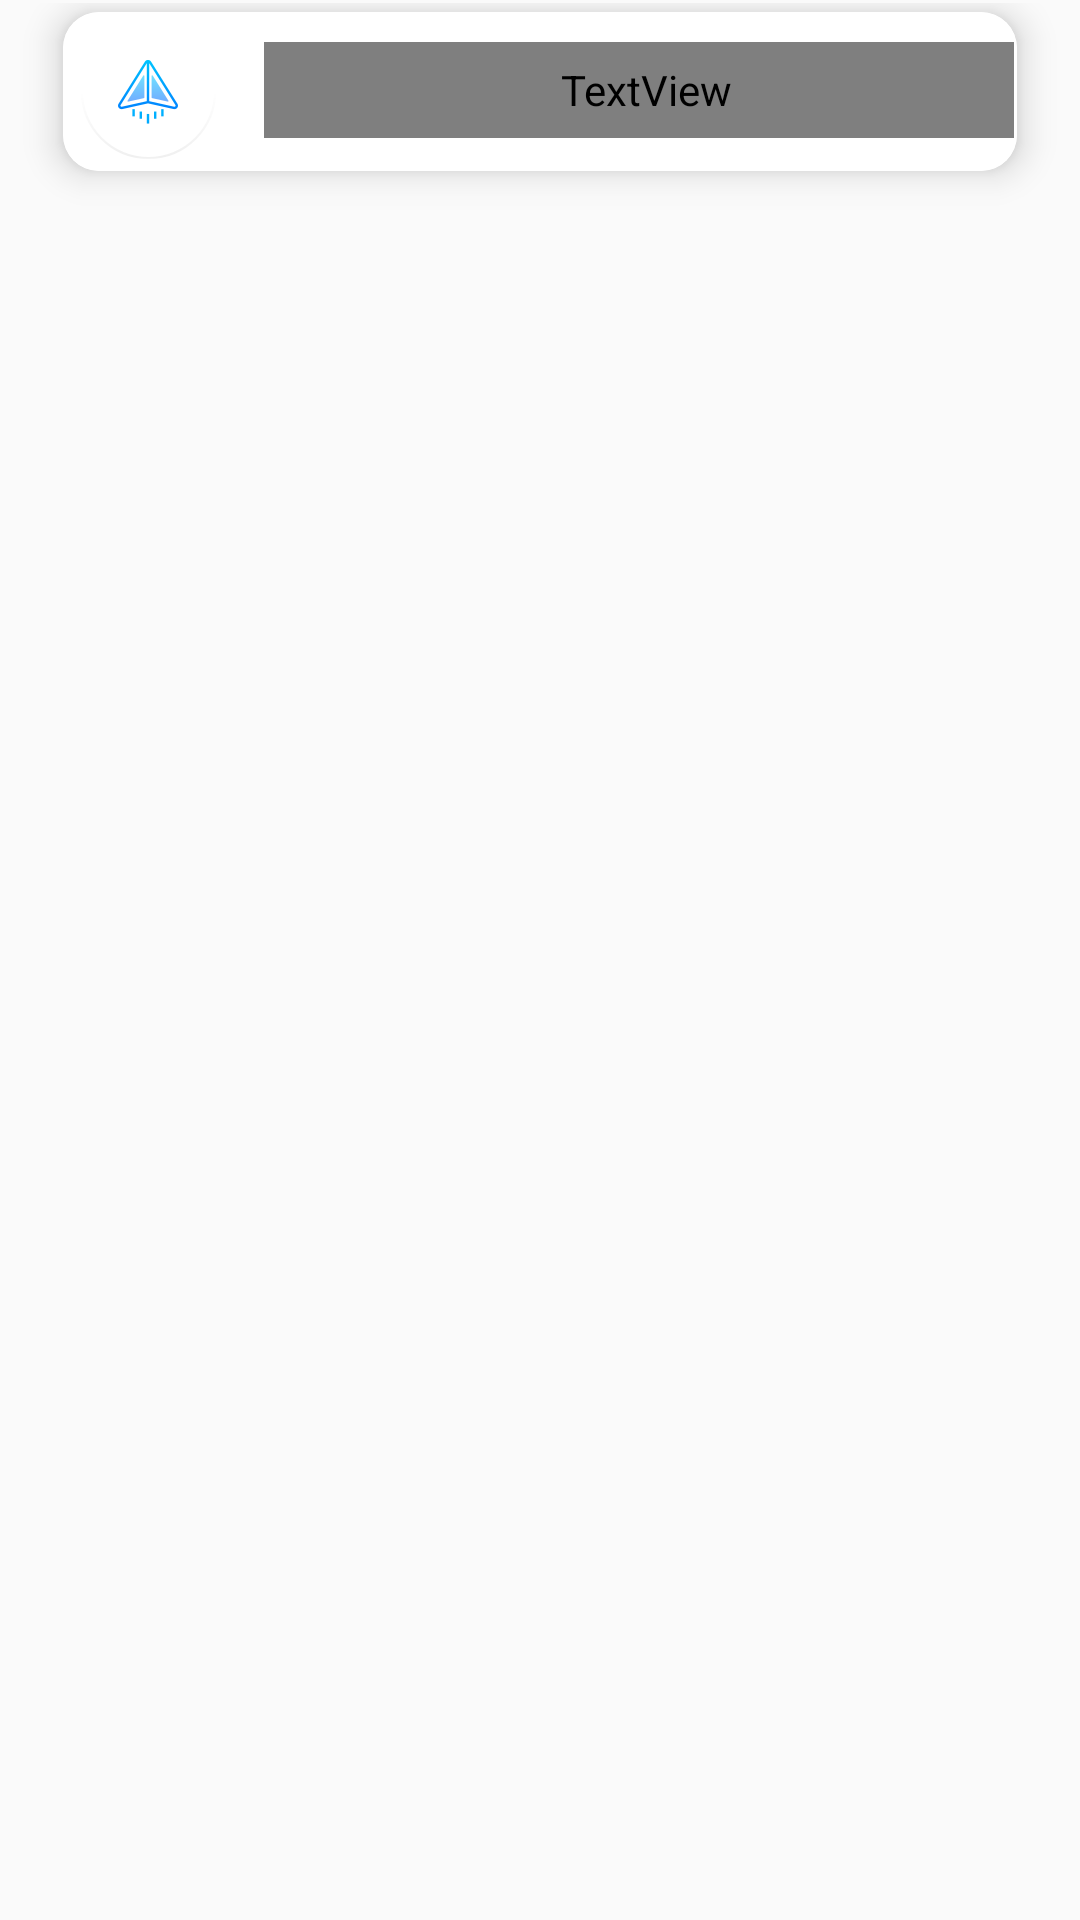

Locate icon controls on the screen. Image size 1080px×1920px, boxes as (x1, y1, x2, y2).
send: (118, 60, 178, 124)
